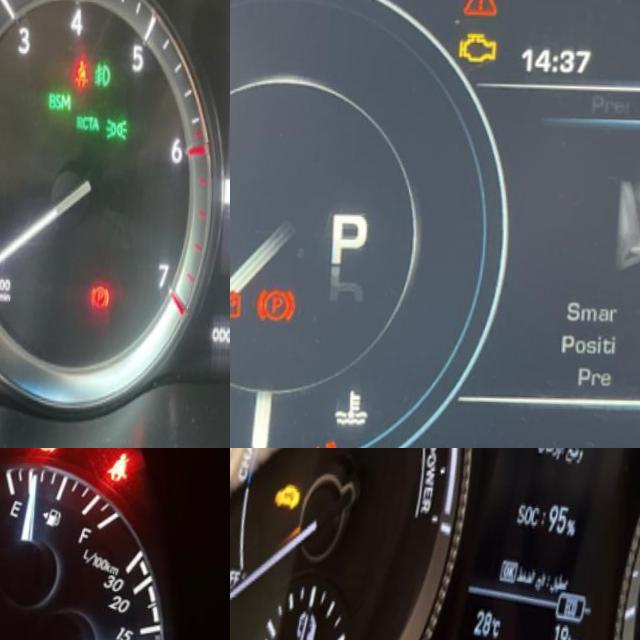Seat Belt: (76, 55, 93, 90)
security: (270, 475, 312, 519)
